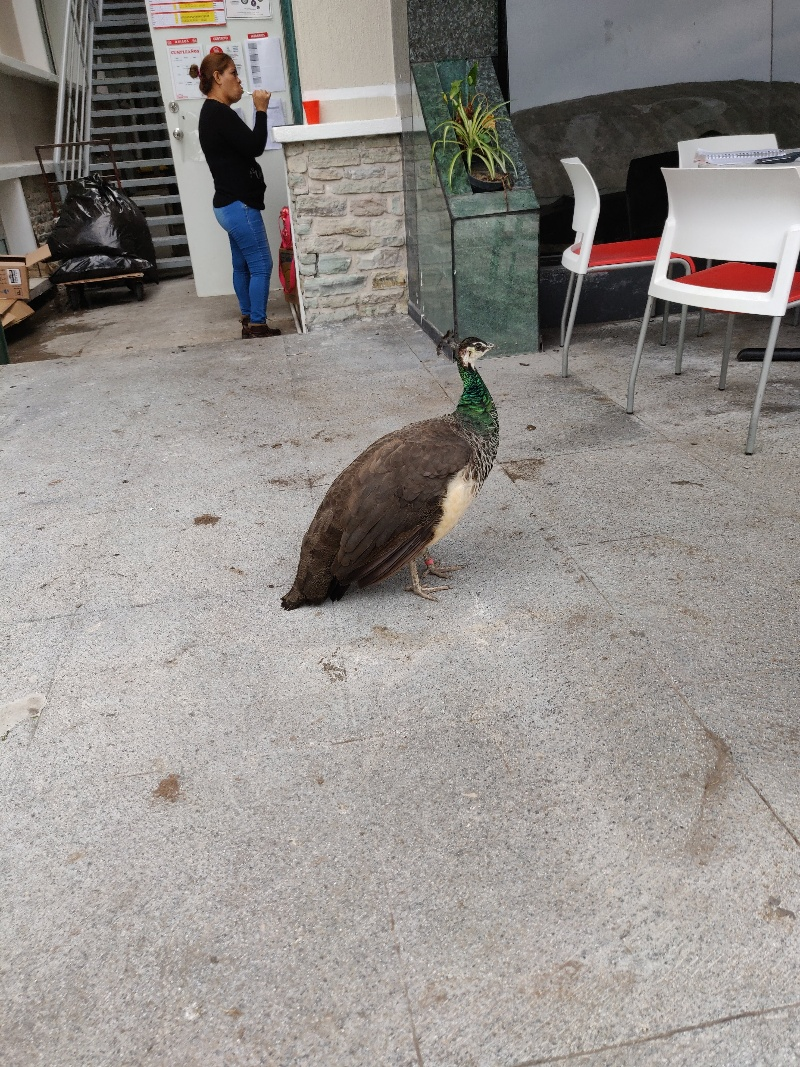pavoreal: (298, 333, 503, 637)
